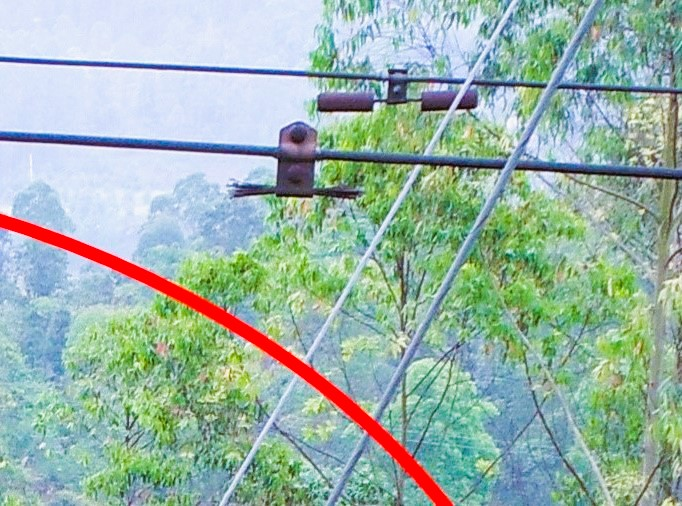Damage of shockproof hammer: (218, 118, 368, 212)
